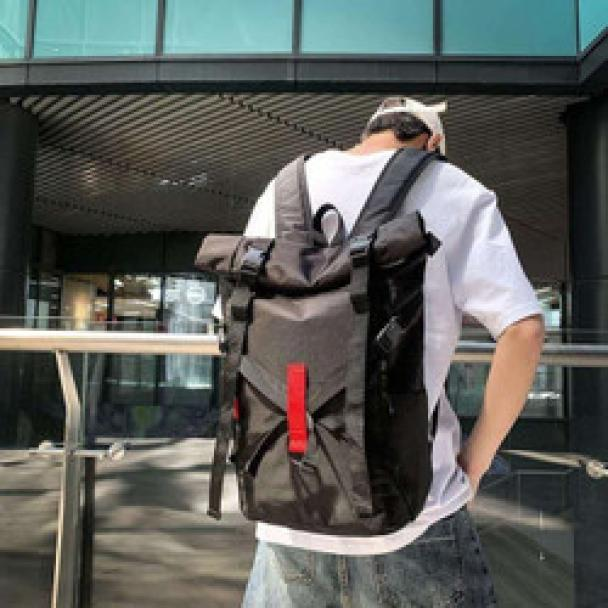Tas: (189, 203, 449, 540)
